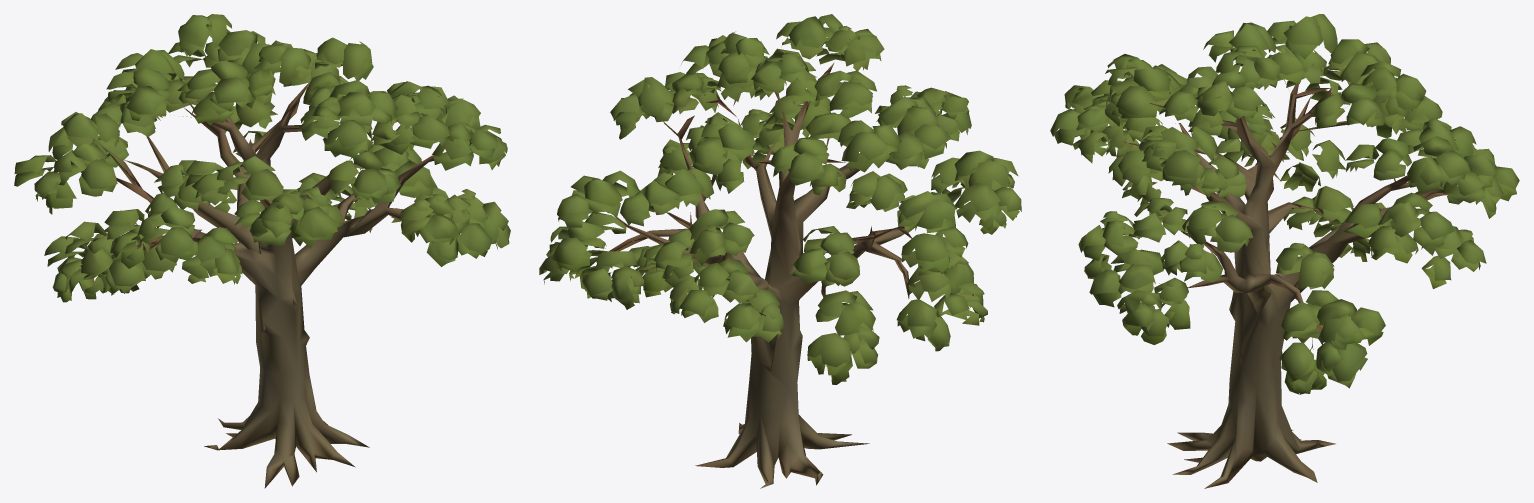
The model's file is tree-10-mid.glb.
The picture shows the model from 3 angles, left to right: view 1: azimuth 30°, elevation 25°; view 2: azimuth 150°, elevation 25°; view 3: azimuth 270°, elevation 25°; orthographic projection.
Size of the model in its own units: 0.9995 by 0.9399 by 0.9771.
